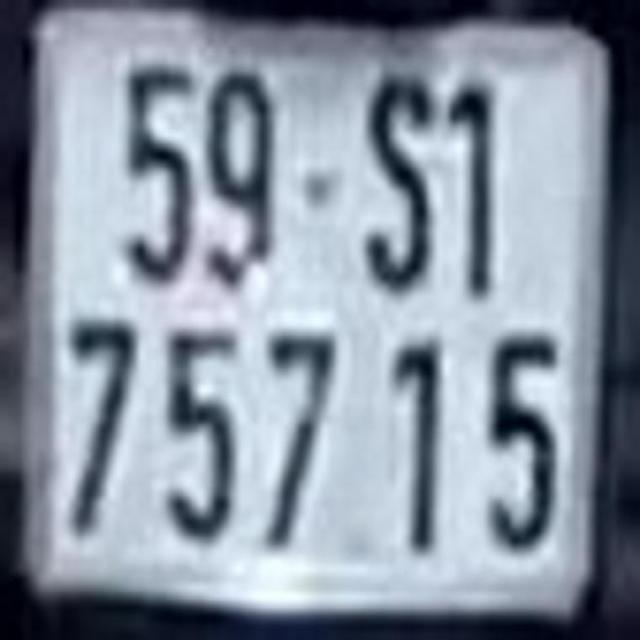1: (386, 320, 442, 548), (449, 70, 497, 292)
5: (166, 322, 242, 536), (492, 329, 560, 561), (123, 57, 192, 272)
7: (59, 314, 145, 538), (264, 324, 339, 564)
9: (205, 62, 272, 292)
S: (364, 74, 434, 295)
